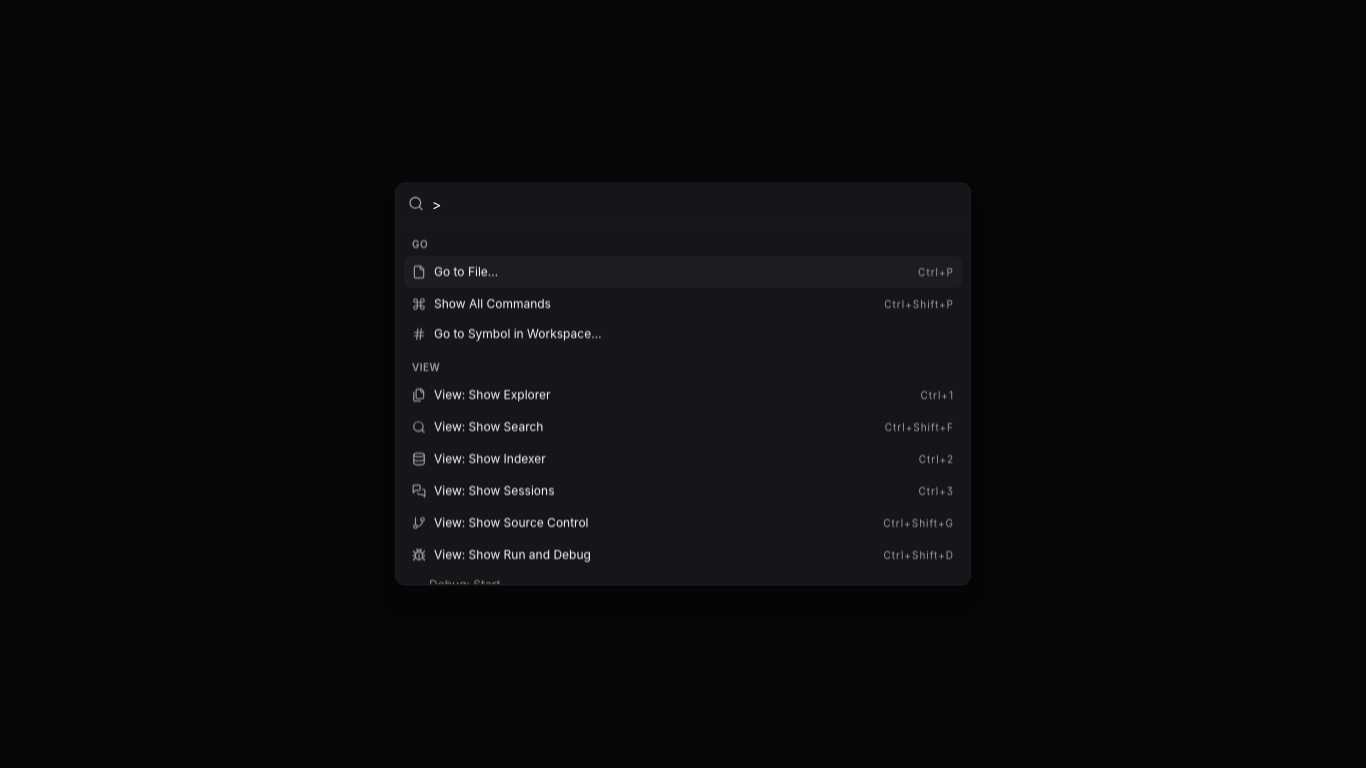
Test: CommandPalette › filters commands as the user types
Replace the text in the dropdown with placeholder "Search files by name, > for commands, @ for symbols…" with ">explorer" at (695, 204), box [432,184,958,224]
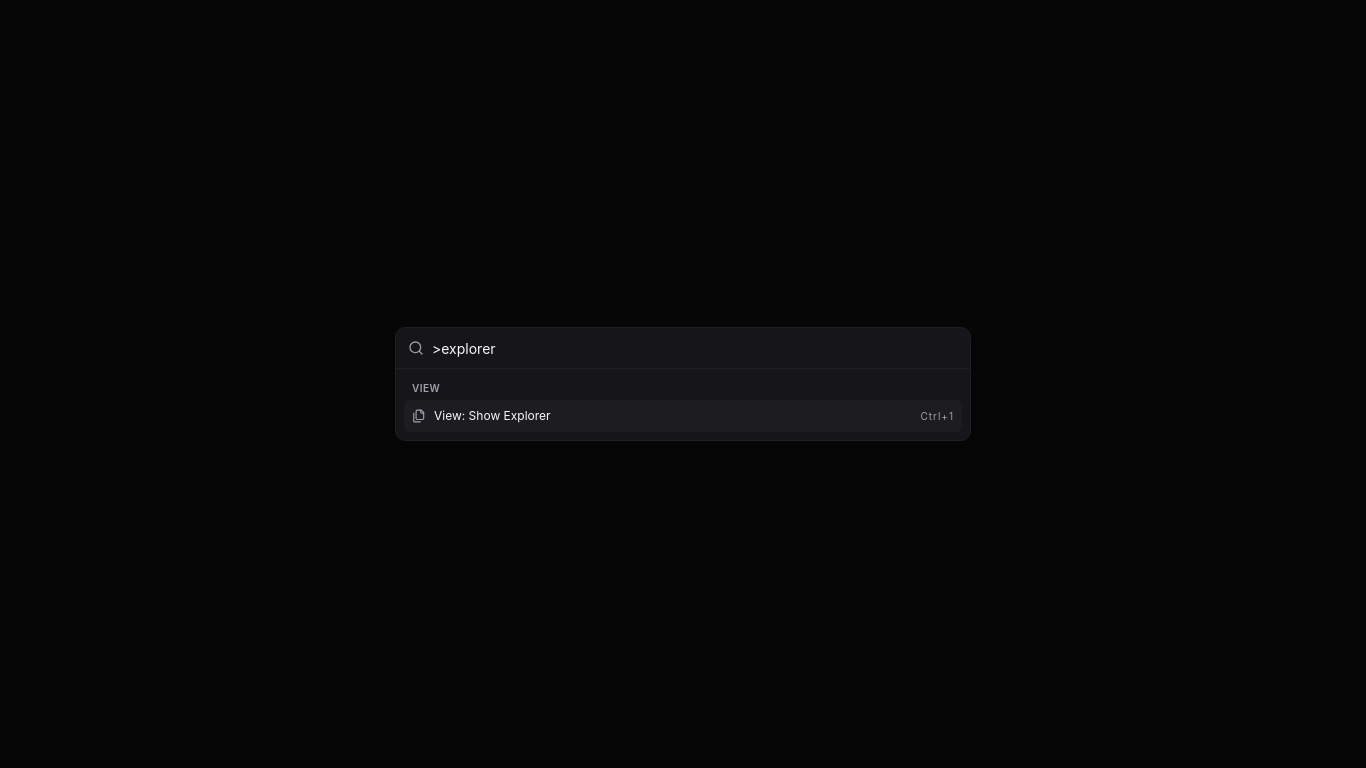
Expected: the text "View: Show Explorer" is shown, [434,408,551,424]
Now the option "Go to File…" is gone
